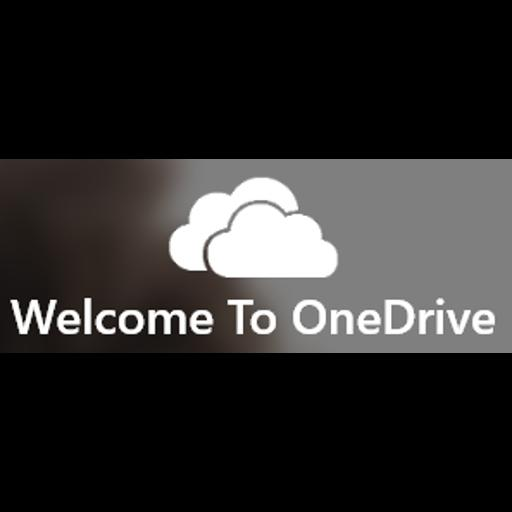Outlook: (0, 159, 512, 353)
